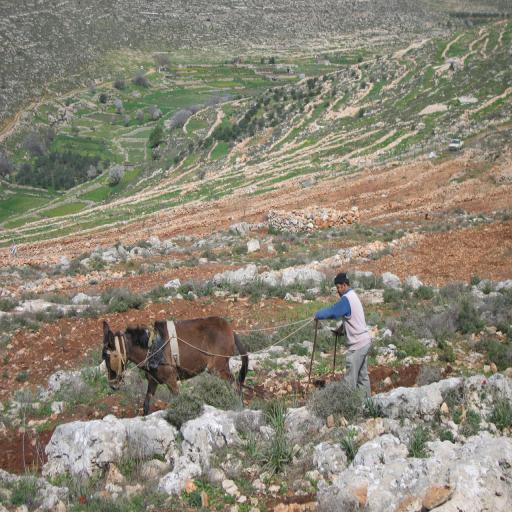horse: (99, 318, 249, 418)
